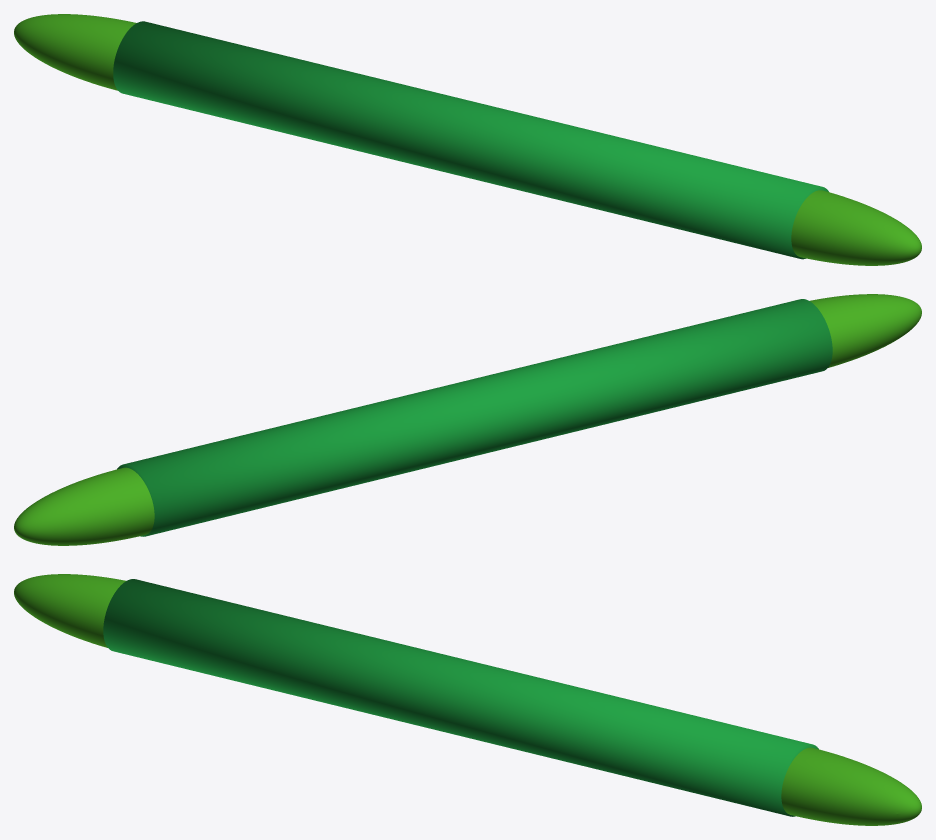
Rendered from antenna.obj.
3 views of the same model, one above another, from view 1: azimuth 90°, elevation 25°; view 2: azimuth 150°, elevation 25°; view 3: azimuth 270°, elevation 25° (orthographic).
Size of the model in its own units: 13.76 by 1.85 by 23.17.
